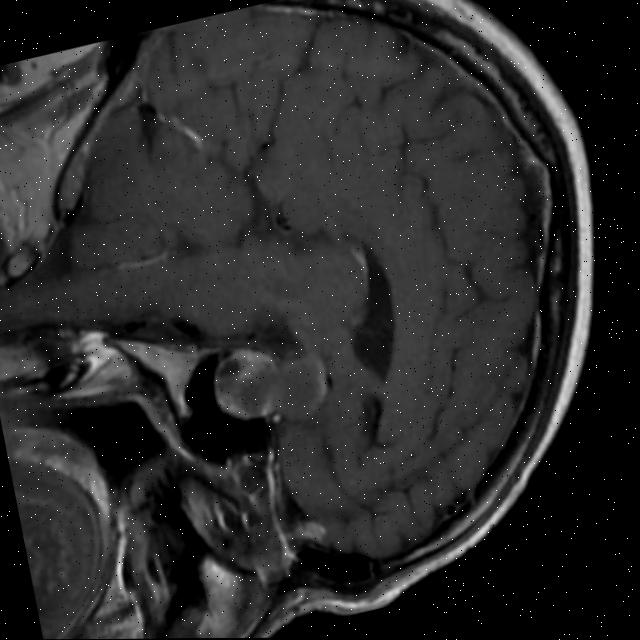Pituitary: (204, 331, 334, 439)
